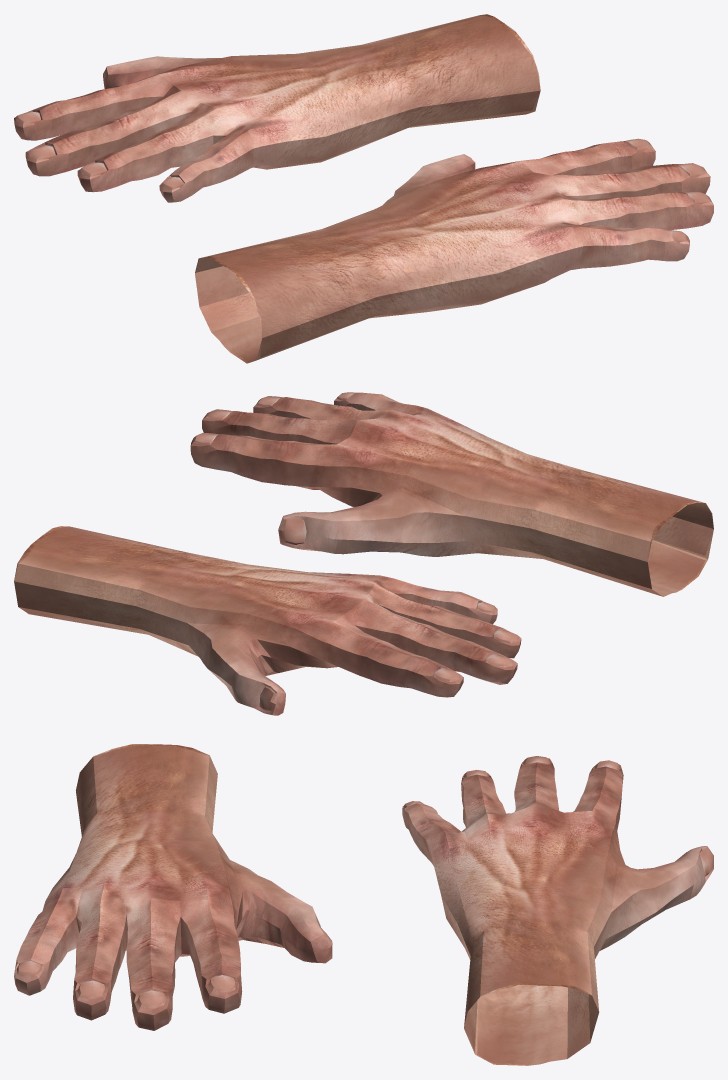
Rendered from hands.fbx.
The picture shows the model from 3 angles, top to bottom: view 1: azimuth 30°, elevation 25°; view 2: azimuth 150°, elevation 25°; view 3: azimuth 270°, elevation 25°; orthographic projection. The views are drawn at different scales.
Parts seen in each view (by area): view 1: Cube.000_Cube.017_Detached, Cube.000_Cube.017_Detached_Detached; view 2: Cube.000_Cube.017_Detached, Cube.000_Cube.017_Detached_Detached; view 3: Cube.000_Cube.017_Detached_Detached, Cube.000_Cube.017_Detached.
Boxes of the visible parts, x1=… form: Cube.000_Cube.017_Detached: x1=195, y1=138, x2=713, y2=363; Cube.000_Cube.017_Detached_Detached: x1=14, y1=14, x2=540, y2=202; Cube.000_Cube.017_Detached: x1=190, y1=392, x2=713, y2=596; Cube.000_Cube.017_Detached_Detached: x1=14, y1=526, x2=521, y2=715; Cube.000_Cube.017_Detached_Detached: x1=402, y1=756, x2=713, y2=1065; Cube.000_Cube.017_Detached: x1=14, y1=744, x2=332, y2=1030.
Bounding box in the file's own units: 0.2661 × 0.0487 × 0.3073.
Materials: 1 (1 with a texture image).
